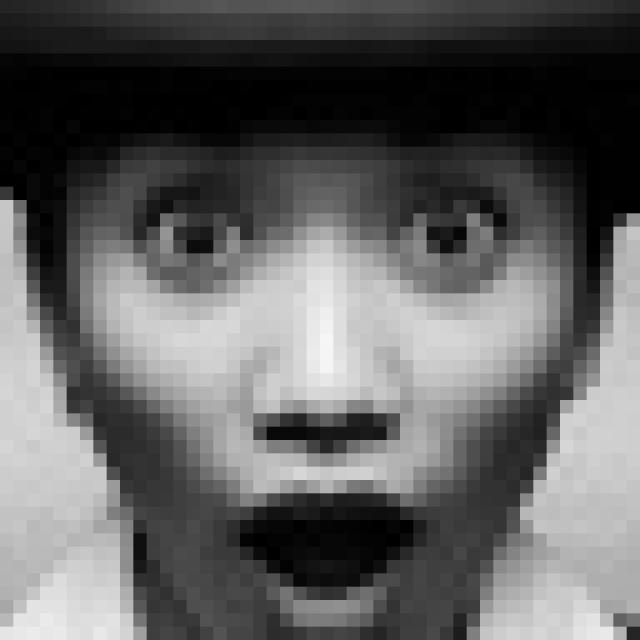surprise: (108, 107, 538, 640)
